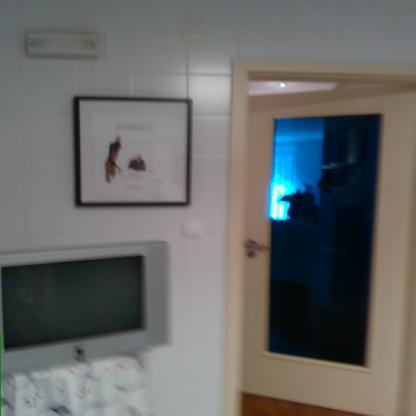semi: (224, 70, 414, 409)
